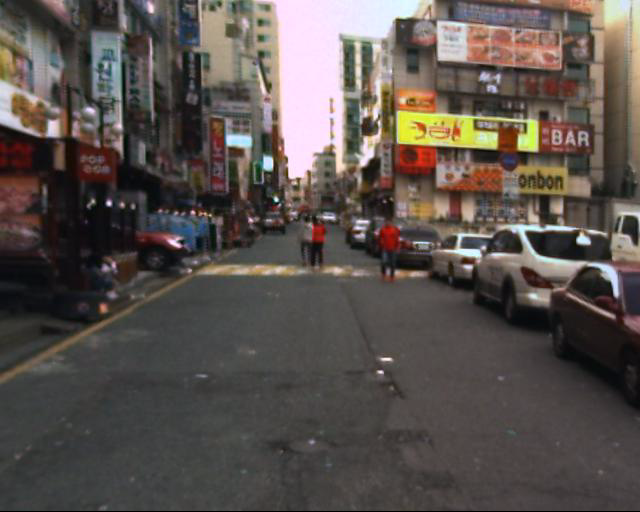person: (366, 212, 404, 301), (291, 202, 315, 279), (305, 211, 331, 278)
